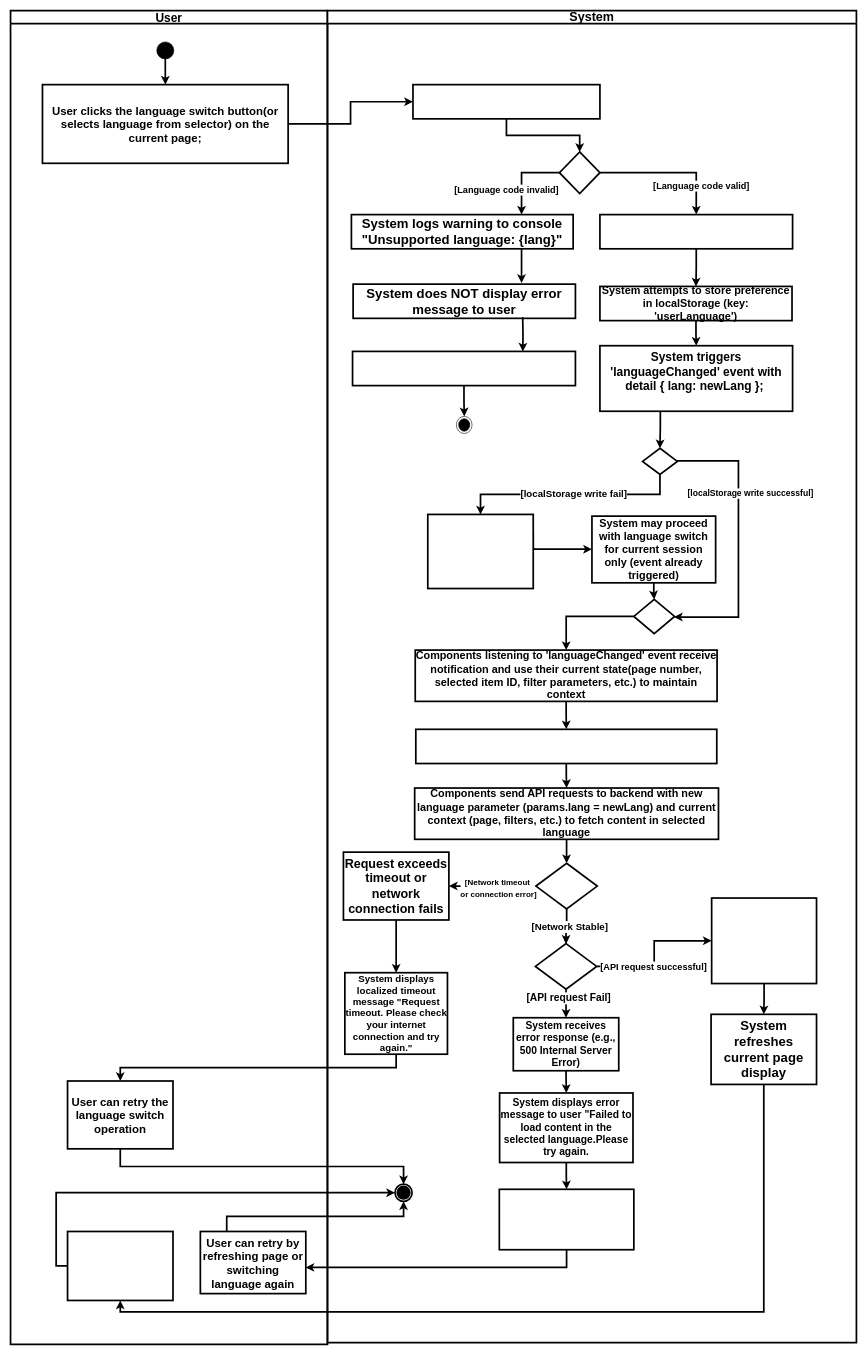
Some shapes in this 867 by 1355 pixel diagram are drawn without their labels. The shapes that lost their labels are listed below. From the top down, each one's box as (x1, y1, x2, y2) in pixels, then its label:
(412, 84, 600, 119): System calls setLanguage(newLang) function
(599, 213, 793, 249): System updates current language state;
(351, 350, 576, 386): System maintains current language setting (no change occurs)
(427, 513, 534, 589): System logs error to console"Failed to save language preference to localStorage"
(415, 728, 717, 764): Components may use delay mechanisms to reduce frequent API requests
(711, 897, 817, 984): Components receive content in newly selected language from API response
(498, 1188, 634, 1250): System keeps new language setting (localStorage and UI language already updated)
(66, 1230, 174, 1301): User continues browsing in the newly selected language
